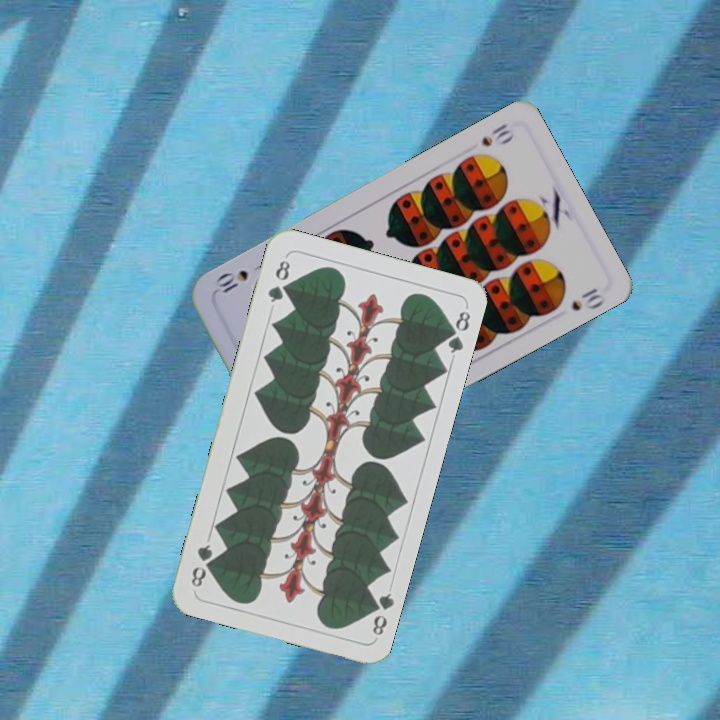G8: (364, 589, 396, 638), (263, 256, 293, 306)
S10: (477, 119, 517, 150)
